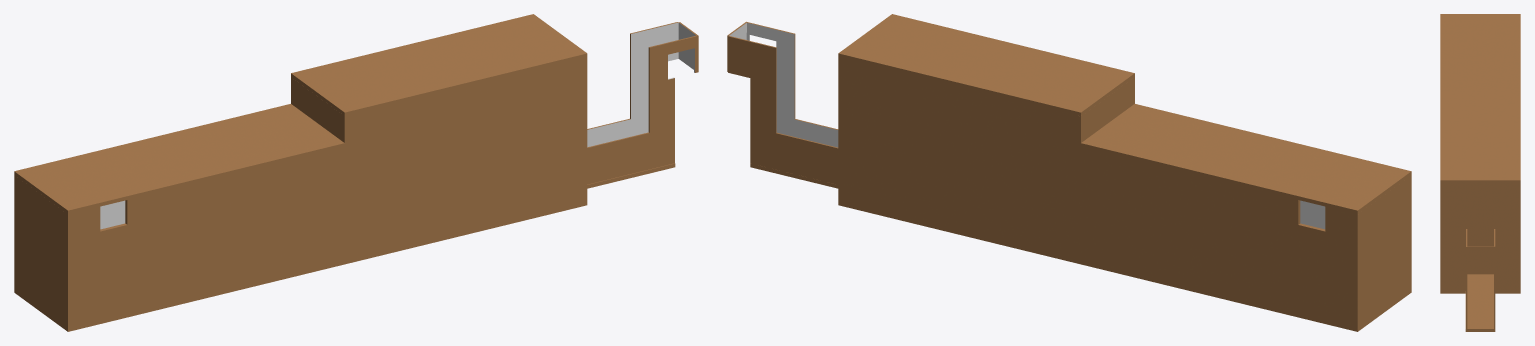
The model's file is Tunnel_ENV_BG.fbx.
3 views of the same model, side by side, from view 1: azimuth 30°, elevation 25°; view 2: azimuth 150°, elevation 25°; view 3: azimuth 270°, elevation 25° (orthographic). The views are drawn at different scales.
Visible parts, largest first — view 1: Track_BG_01.009, Track_BG_01.004, Track_BG_01.005, Track_BG_01.007, Track_BG_01.013, Track_BG_01.003, Track_BG_01.011, Track_BG_01.001, Track_BG_01.010, Track_BG_01.012, Track_BG_01.002; view 2: Track_BG_01.008, Track_BG_01.002, Track_BG_01.005, Track_BG_01.007, Track_BG_01.013, Track_BG_01.003, Track_BG_01.011, Track_BG_01.001, Track_BG_01.010, Track_BG_01.012, Track_BG_01.004; view 3: Track_BG_01.012, Track_BG_01.007, Track_BG_01.005, Track_BG_01.010, Track_BG_01, Track_BG_01.013.
Boxes of the visible parts, <box> form: Track_BG_01.009: <box>348,58,583,259</box>; Track_BG_01.004: <box>68,147,344,326</box>; Track_BG_01.005: <box>14,104,348,214</box>; Track_BG_01.007: <box>291,15,583,116</box>; Track_BG_01.013: <box>587,22,698,184</box>; Track_BG_01.003: <box>14,175,71,327</box>; Track_BG_01.011: <box>291,77,348,142</box>; Track_BG_01.001: <box>14,259,351,331</box>; Track_BG_01.010: <box>351,163,675,262</box>; Track_BG_01.012: <box>530,14,587,202</box>; Track_BG_01.002: <box>100,200,125,229</box>; Track_BG_01.008: <box>842,58,1077,259</box>; Track_BG_01.002: <box>1077,146,1357,327</box>; Track_BG_01.005: <box>1077,104,1411,214</box>; Track_BG_01.007: <box>842,15,1134,116</box>; Track_BG_01.013: <box>728,21,838,184</box>; Track_BG_01.003: <box>1354,175,1411,327</box>; Track_BG_01.011: <box>1077,77,1134,142</box>; Track_BG_01.001: <box>1074,259,1411,331</box>; Track_BG_01.010: <box>750,163,1074,262</box>; Track_BG_01.012: <box>838,14,895,202</box>; Track_BG_01.004: <box>1300,200,1325,229</box>; Track_BG_01.012: <box>1440,179,1520,290</box>; Track_BG_01.007: <box>1440,92,1520,178</box>; Track_BG_01.005: <box>1440,14,1520,91</box>; Track_BG_01.010: <box>1440,274,1520,331</box>; Track_BG_01: <box>1467,246,1494,274</box>; Track_BG_01.013: <box>1466,229,1495,329</box>.
Bounding box in the file's own units: 35679 × 7988 × 5135.
